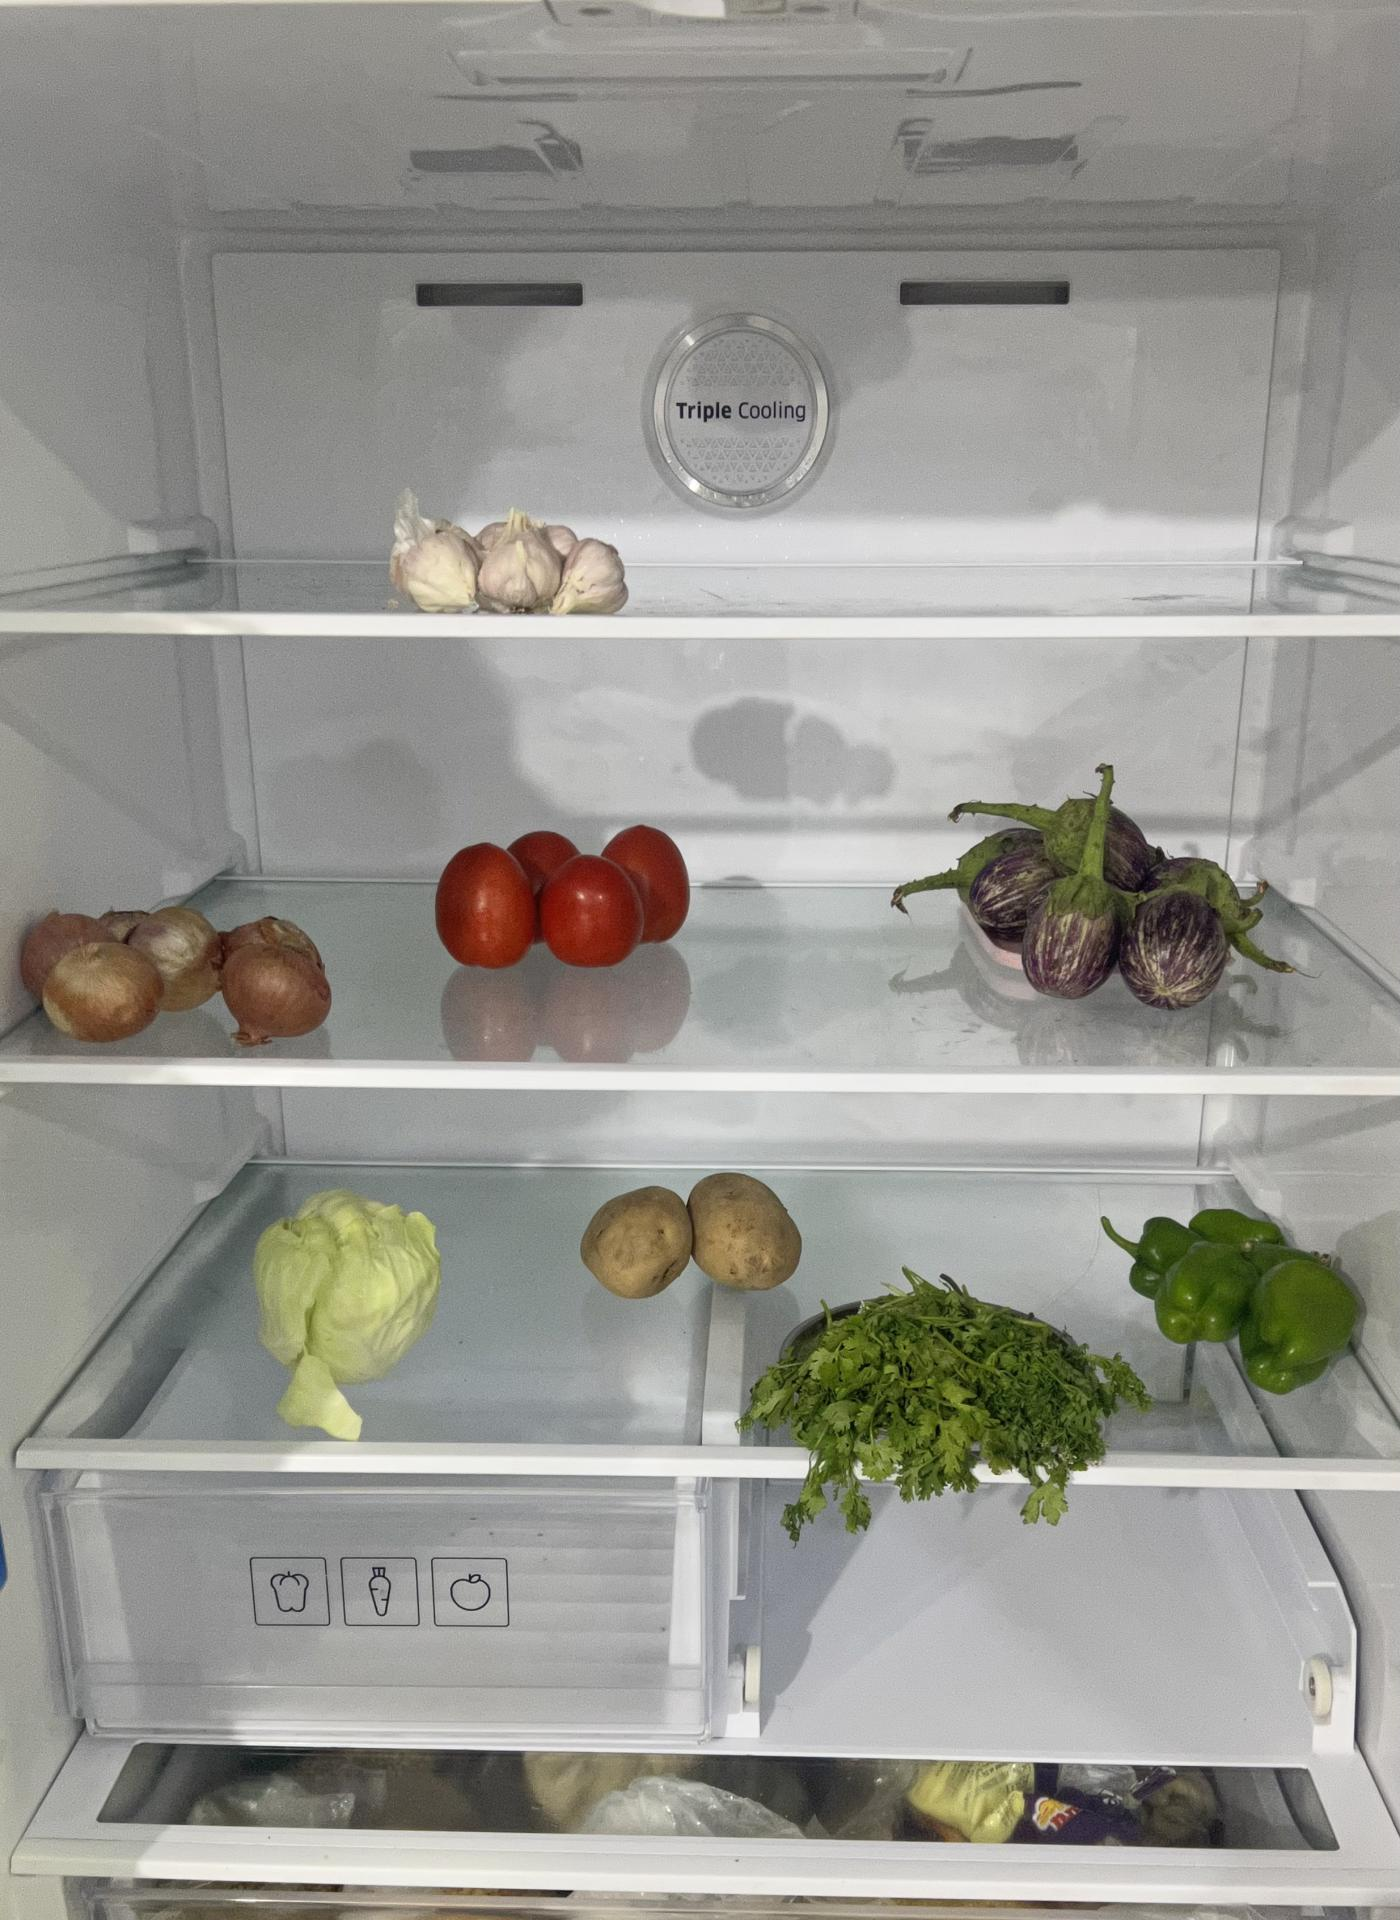brinjal: (948, 777, 1269, 1008)
cabbage: (255, 1193, 443, 1388)
capsicum: (1136, 1197, 1385, 1398)
coriander: (742, 1291, 1144, 1497)
garlic: (386, 505, 629, 620)
onion: (16, 908, 331, 1048)
potato: (580, 1176, 805, 1301)
tomato: (432, 818, 687, 964)
